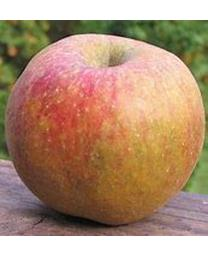apple: (4, 32, 205, 225)
